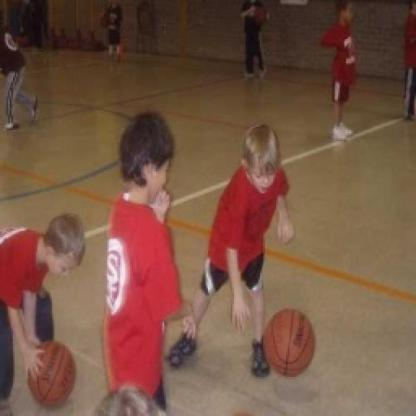basketball: (262, 308, 316, 376), (31, 342, 78, 404)
